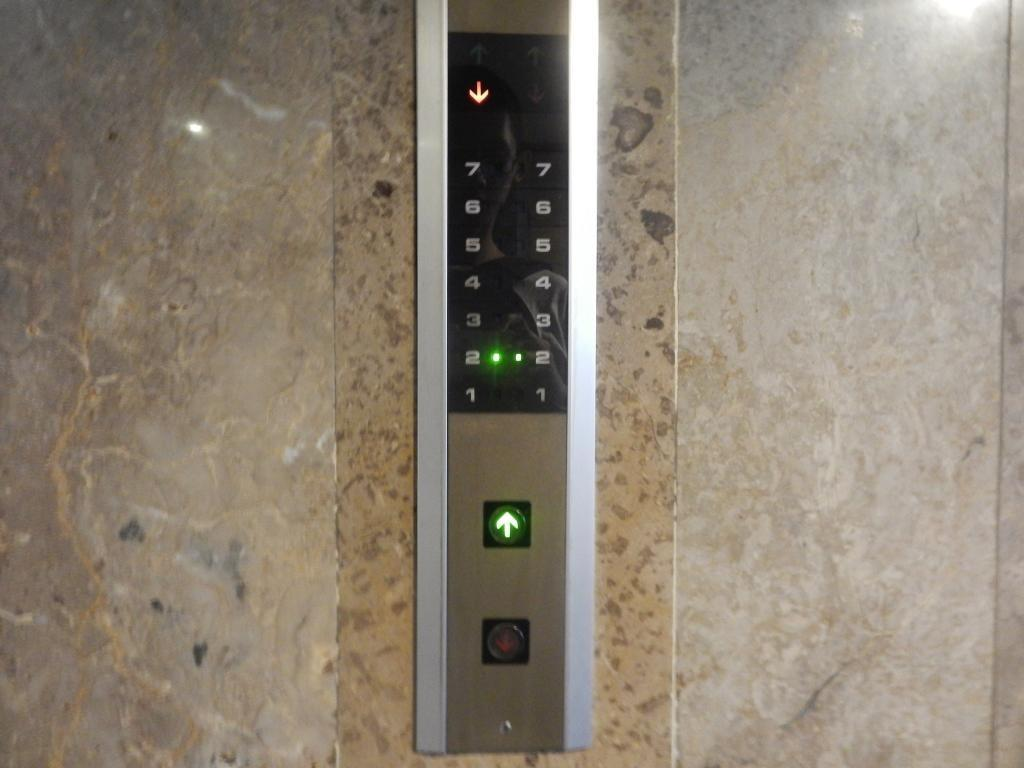down: (477, 613, 534, 668)
led: (442, 24, 571, 417)
up: (477, 495, 536, 553)
